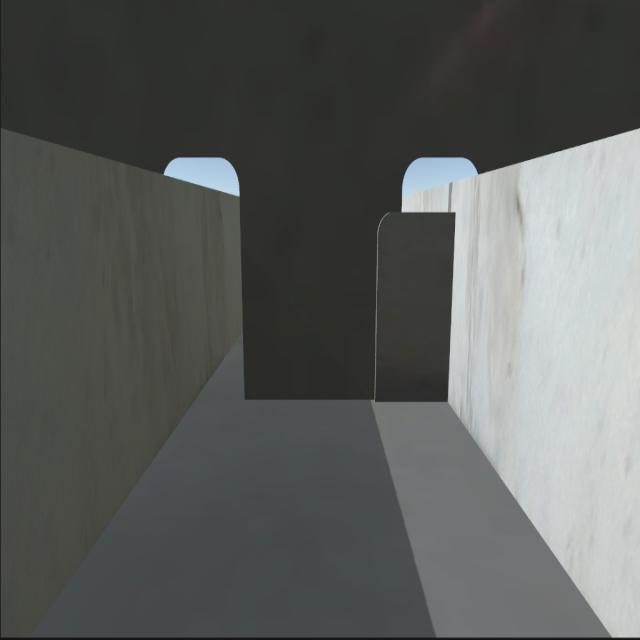fillet_yong_jeop_jang: (244, 389, 449, 418)
longi_yong_jeop_jang: (442, 212, 458, 402)
plate_CP05: (378, 208, 459, 390)
